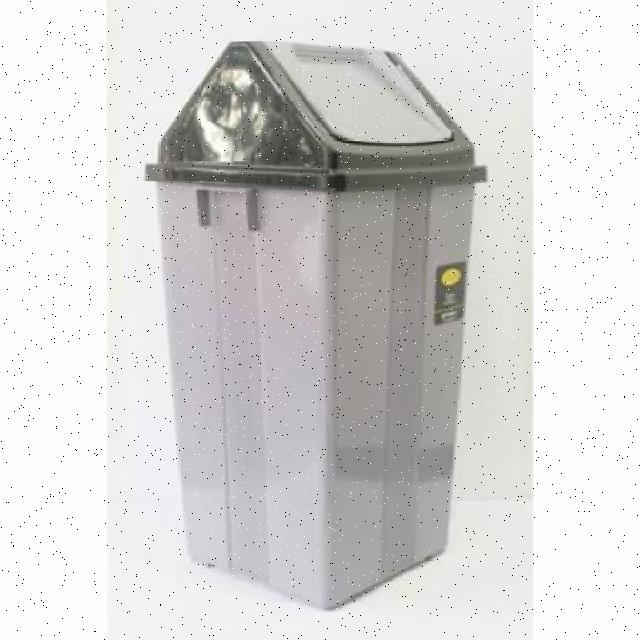garbage container: (138, 30, 503, 621)
